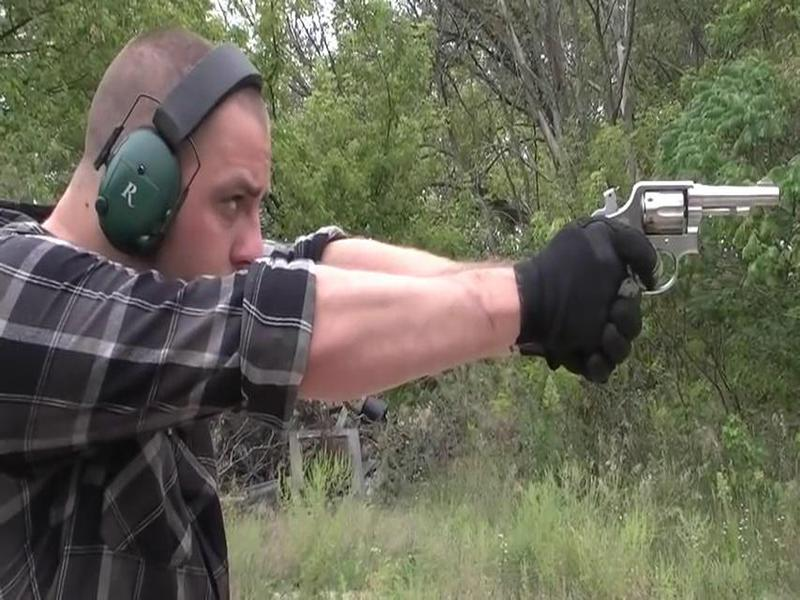Revolver: (572, 168, 797, 308)
